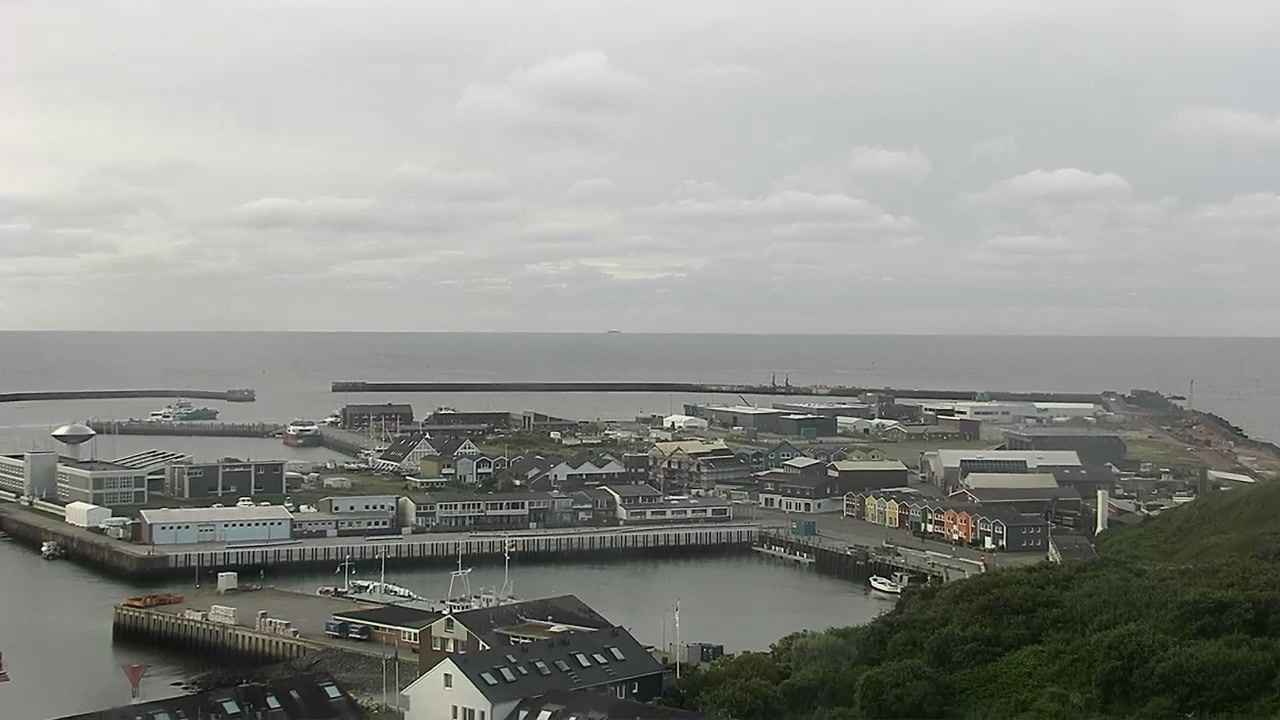sea: (407, 539, 482, 613), (469, 532, 523, 607), (347, 546, 412, 597), (314, 553, 359, 602), (149, 394, 219, 419), (282, 416, 322, 447), (868, 574, 901, 592), (39, 540, 65, 561)
